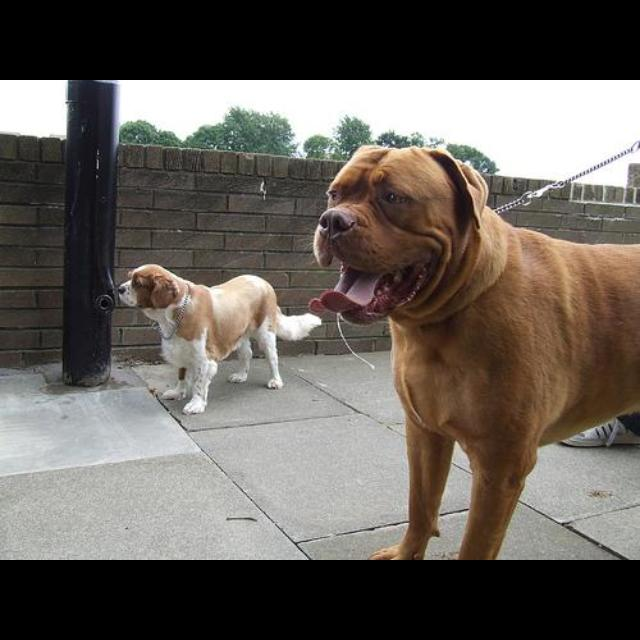bullmastiff: (313, 144, 640, 560)
other_dog_breed: (116, 263, 322, 415)
